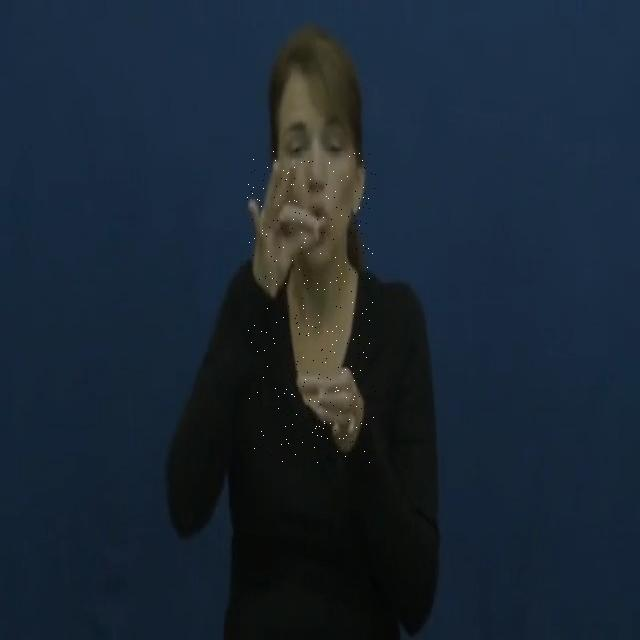straw: (246, 152, 376, 466)
